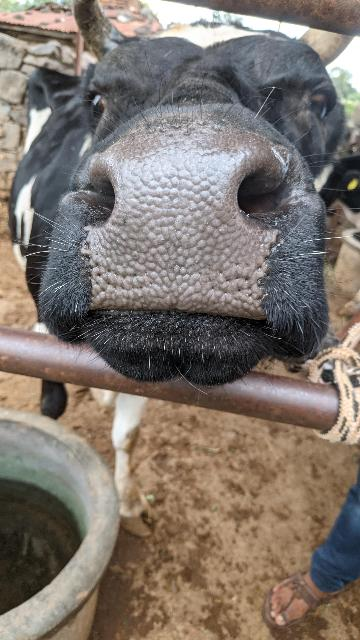Muzzle: (98, 142, 272, 326)
